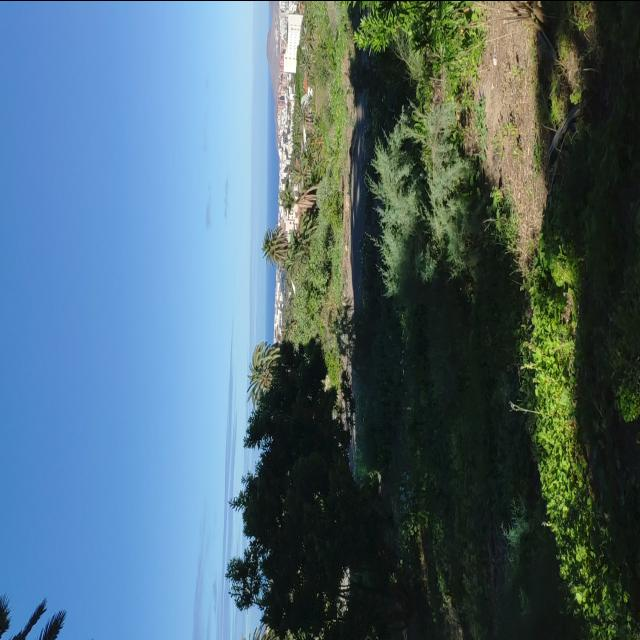Palm-Trees: (248, 342, 281, 408), (261, 225, 290, 268)
